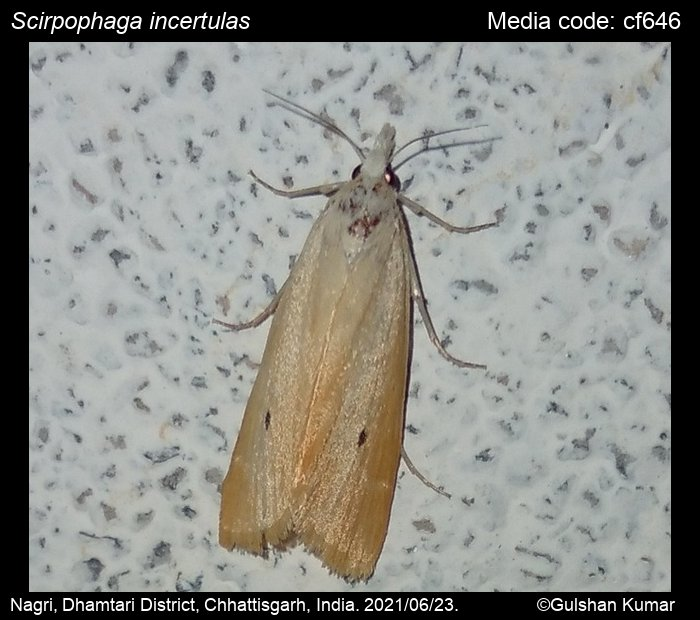Crambidae: (221, 88, 503, 585)
